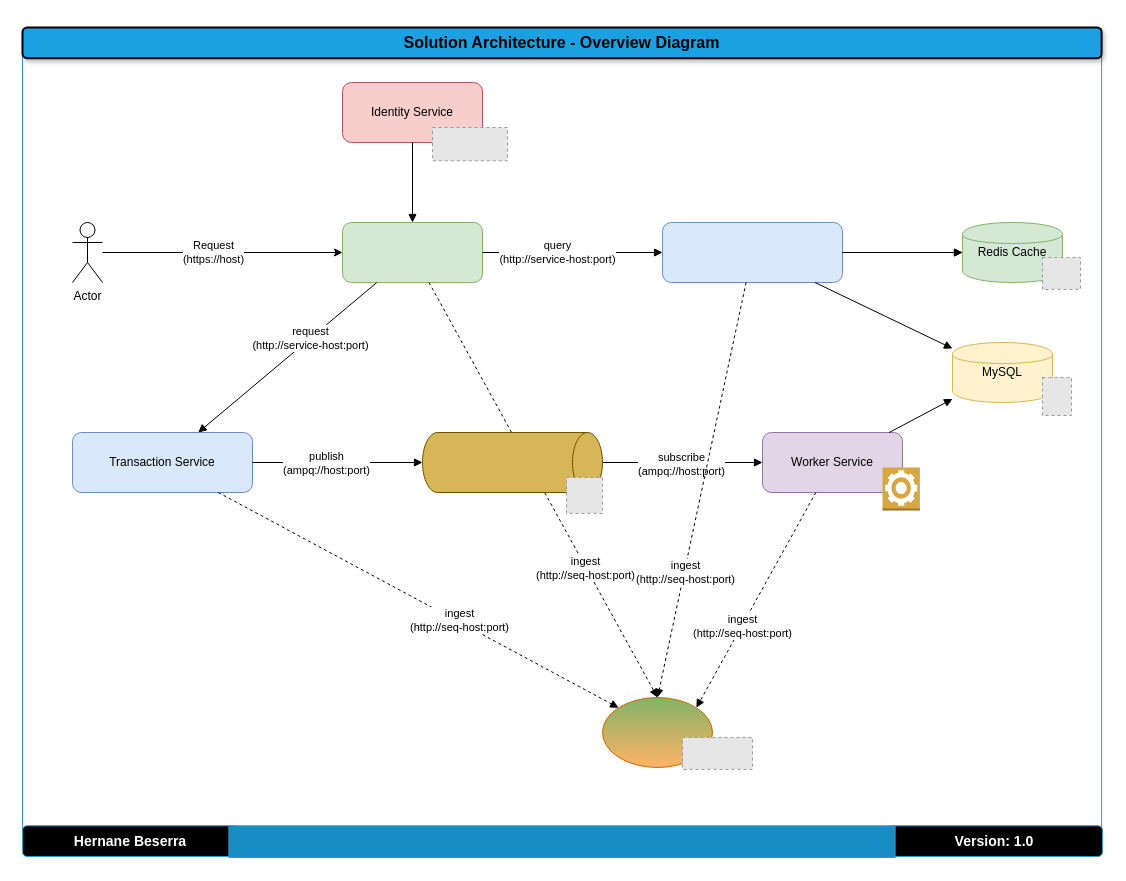
The diagram is 1126 pixels wide and 881 high, and some of its shapes have lost their labels. Grey dashed boxes stand in for pictures. The centre of each missing label's shape, as x and y in pixels:
"API Gateway" goes at point 412,252.
"Log Entries" goes at point 657,732.
"MassTransit / RabbitMQ" goes at point 512,462.
"Query Service" goes at point 752,252.
